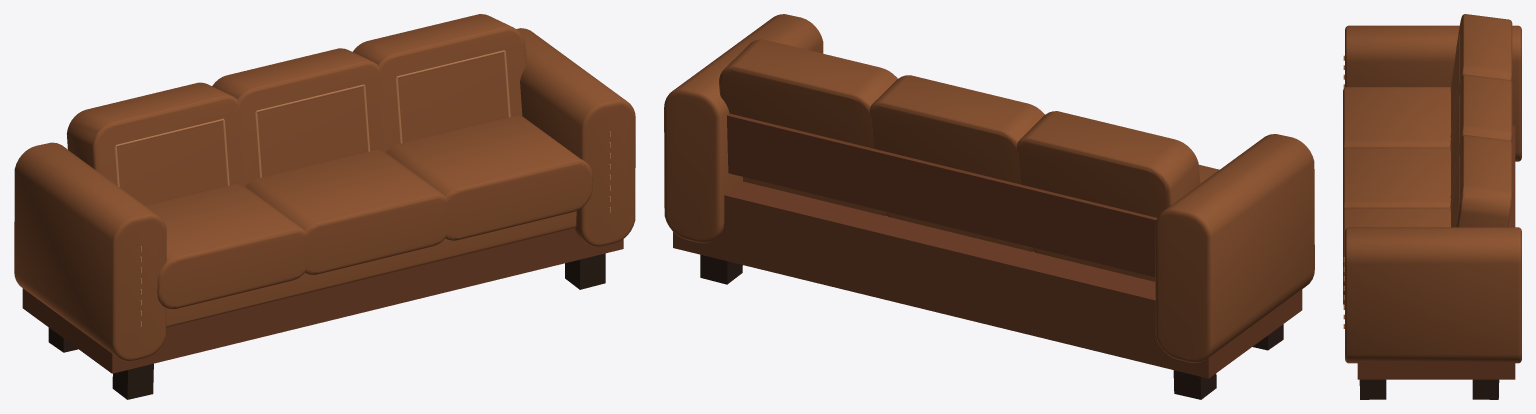
File: cognac-leather-sofa-bevelSize-max.glb
3 renders of one model, left to right at view 1: azimuth 30°, elevation 25°; view 2: azimuth 150°, elevation 25°; view 3: azimuth 270°, elevation 25°, orthographic. The views are drawn at different scales.
Visible parts, largest first — view 1: sofa-part-28, sofa-part-4, seat-cushion-1-part-0, seat-cushion-2-part-0, back-cushion-3-part-0, back-cushion-1-part-0, back-cushion-2-part-0, seat-cushion-3-part-0, sofa-part-7, sofa-part-5, sofa-part-2, sofa-part-0; view 2: sofa-part-4, sofa-part-28, sofa-part-6, back-cushion-3-part-0, sofa-part-7, back-cushion-1-part-0, back-cushion-2-part-0, sofa-part-3, sofa-part-1, seat-cushion-3-part-0, seat-cushion-2-part-0, seat-cushion-1-part-0; view 3: sofa-part-7, sofa-part-28, seat-cushion-2-part-0, seat-cushion-3-part-0, back-cushion-1-part-0, back-cushion-2-part-0, back-cushion-3-part-0, sofa-part-4, seat-cushion-1-part-0, sofa-part-0, sofa-part-1.
Part boxes in pixels (x1,y1,x2,y2): sofa-part-28: (14, 142, 166, 361); sofa-part-4: (22, 228, 623, 373); seat-cushion-1-part-0: (386, 115, 592, 240); seat-cushion-2-part-0: (245, 149, 449, 275); back-cushion-3-part-0: (67, 82, 245, 205); back-cushion-1-part-0: (353, 14, 526, 151); back-cushion-2-part-0: (212, 48, 386, 186); seat-cushion-3-part-0: (145, 184, 306, 309); sofa-part-7: (516, 28, 635, 246); sofa-part-5: (166, 211, 576, 327); sofa-part-2: (112, 363, 153, 399); sofa-part-0: (565, 253, 605, 289); sofa-part-4: (673, 181, 1302, 378); sofa-part-28: (1155, 134, 1314, 363); sofa-part-6: (727, 113, 1157, 277); back-cushion-3-part-0: (1016, 111, 1200, 217); sofa-part-7: (664, 14, 823, 243); back-cushion-1-part-0: (719, 39, 897, 148); back-cushion-2-part-0: (869, 75, 1044, 184); sofa-part-3: (1173, 370, 1216, 399); sofa-part-1: (700, 254, 742, 284); seat-cushion-3-part-0: (1033, 164, 1219, 281); seat-cushion-2-part-0: (886, 212, 1033, 251); seat-cushion-1-part-0: (743, 177, 886, 215); sofa-part-7: (1345, 227, 1521, 363); sofa-part-28: (1345, 25, 1521, 161); seat-cushion-2-part-0: (1343, 147, 1450, 210); seat-cushion-3-part-0: (1343, 87, 1450, 150); back-cushion-1-part-0: (1450, 135, 1512, 227); back-cushion-2-part-0: (1450, 74, 1512, 206); back-cushion-3-part-0: (1450, 14, 1512, 146); sofa-part-4: (1357, 125, 1515, 379); seat-cushion-1-part-0: (1343, 207, 1450, 304); sofa-part-0: (1359, 379, 1386, 399); sofa-part-1: (1472, 379, 1499, 399).
Bounding box in the file's own units: 2.64 × 1.08 × 0.886.
